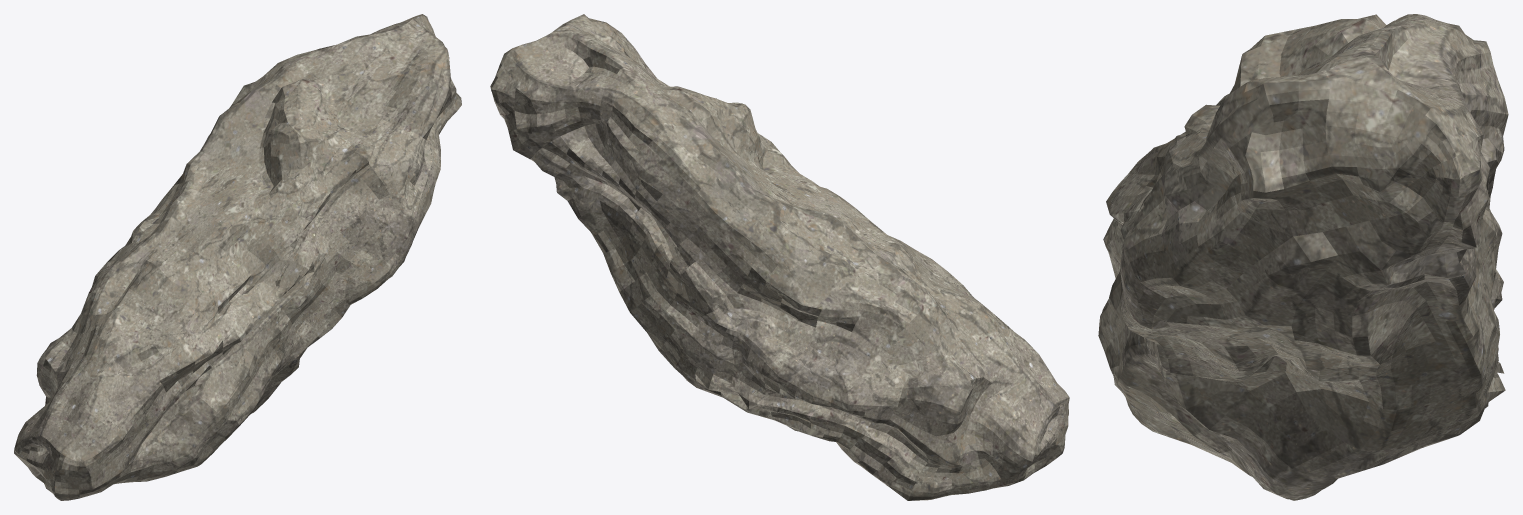
File: rock_3.fbx
3 renders of one model, left to right at view 1: azimuth 30°, elevation 25°; view 2: azimuth 150°, elevation 25°; view 3: azimuth 270°, elevation 25°, orthographic. The views are drawn at different scales.
Parts seen in each view (by area): view 1: Rock_3_remeshed_uv_1_low1:Group22566; view 2: Rock_3_remeshed_uv_1_low1:Group22566; view 3: Rock_3_remeshed_uv_1_low1:Group22566.
Boxes of the visible parts, box(x1,y1,x2,y2) form: Rock_3_remeshed_uv_1_low1:Group22566: box(14, 14, 461, 500); Rock_3_remeshed_uv_1_low1:Group22566: box(490, 14, 1069, 500); Rock_3_remeshed_uv_1_low1:Group22566: box(1098, 14, 1508, 500).
Size of the model in its own units: 10.37 by 7.64 by 4.38.
Materials: 1 (1 with a texture image).
